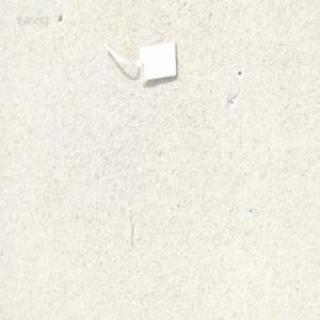LuggageTagtrack_idkeyframe: (101, 36, 178, 86)
